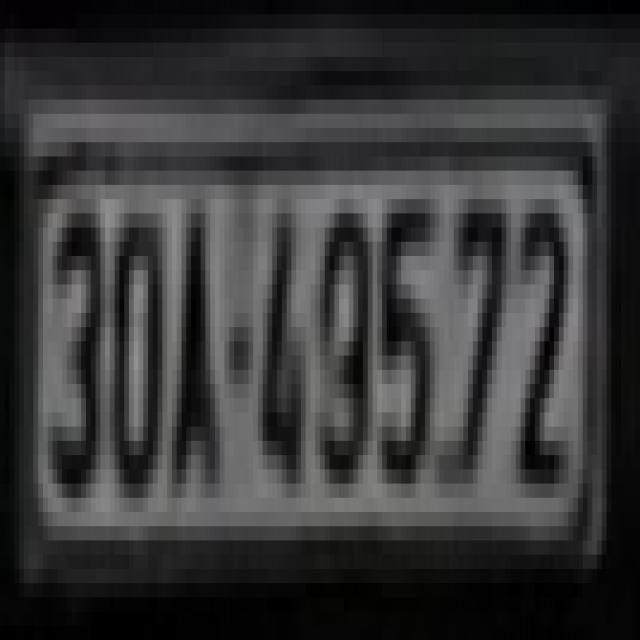0: (110, 199, 168, 498)
2: (516, 199, 574, 484)
3: (48, 199, 106, 498)
4: (258, 199, 306, 498)
5: (377, 184, 435, 483)
7: (439, 199, 506, 484)
9: (315, 199, 368, 484)
A: (167, 185, 225, 498)
